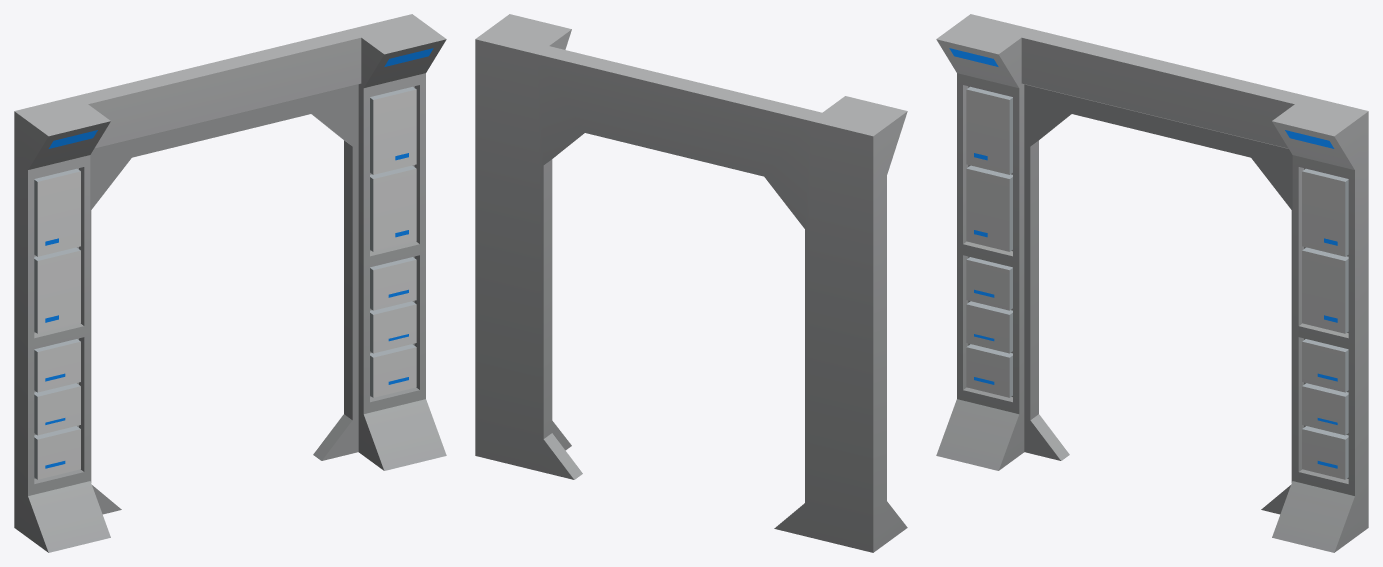
File: Wall_type_A_052.glb
3 renders of one model, left to right at view 1: azimuth 30°, elevation 25°; view 2: azimuth 150°, elevation 25°; view 3: azimuth 330°, elevation 25°, orthographic.
Visible parts, largest first — view 1: Wall_type_A_052; view 2: Wall_type_A_052; view 3: Wall_type_A_052.
Part boxes in pixels (box(x1,y1,x2,y2)): Wall_type_A_052: box(14, 14, 446, 552); Wall_type_A_052: box(475, 14, 907, 552); Wall_type_A_052: box(936, 14, 1368, 552).
Size of the model in its own units: 4 by 4 by 0.6.
Materials: 2 (2 with a texture image).
